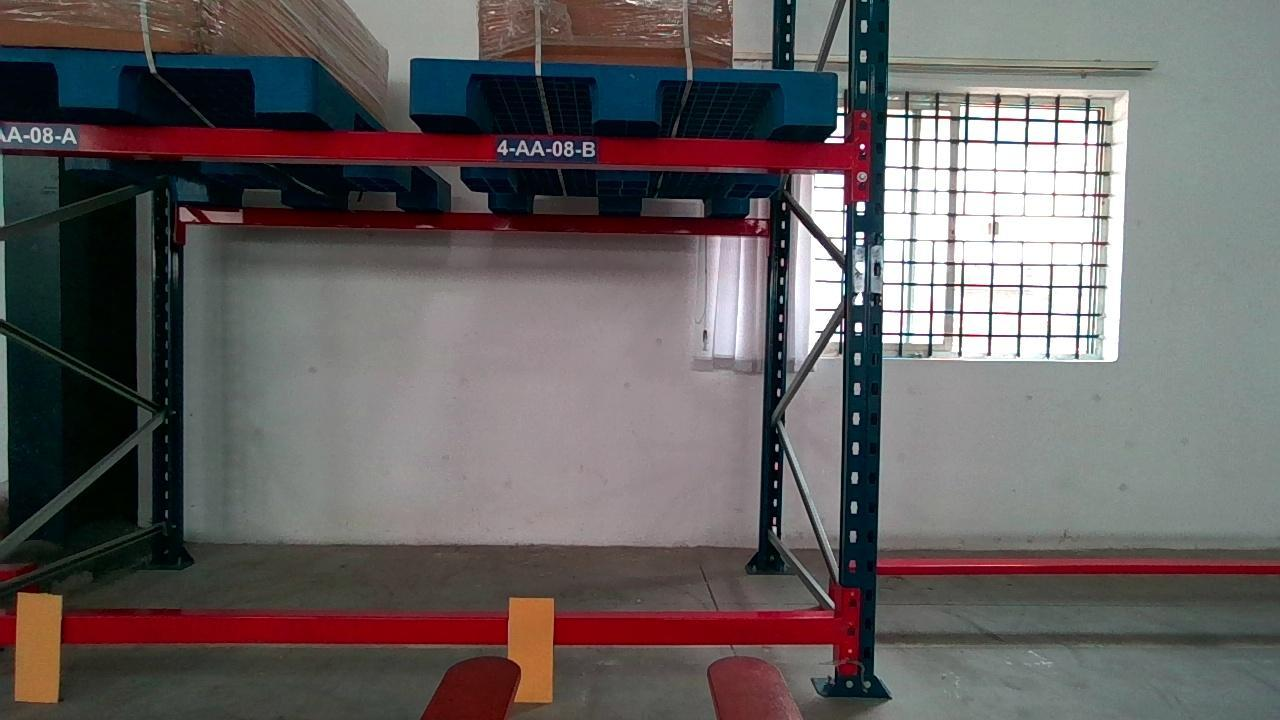h_rack: (3, 120, 855, 170), (0, 611, 833, 645)
orange_strip: (16, 595, 67, 701), (507, 595, 557, 700)
small_pallet: (411, 60, 838, 125), (0, 42, 324, 115)
